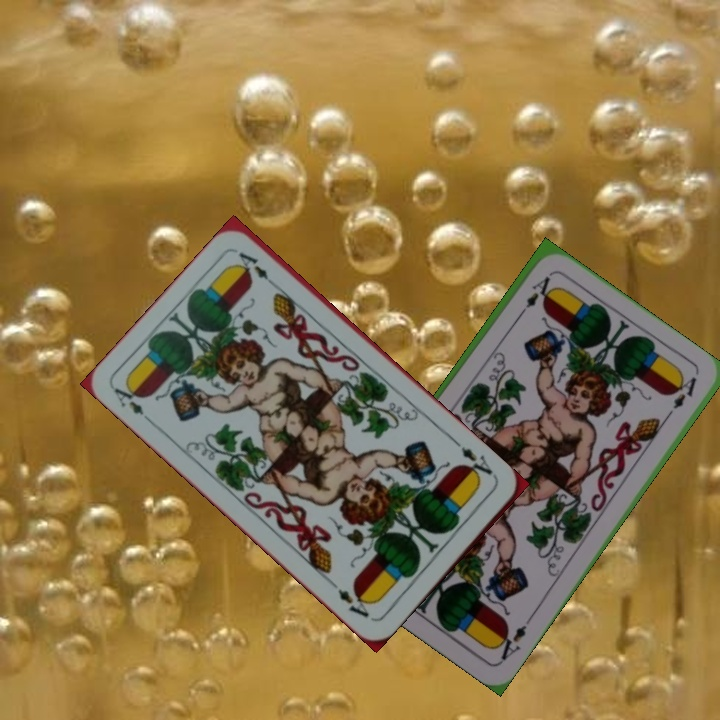EA: (110, 379, 157, 428), (491, 613, 535, 665), (452, 437, 500, 484), (513, 272, 553, 322)
